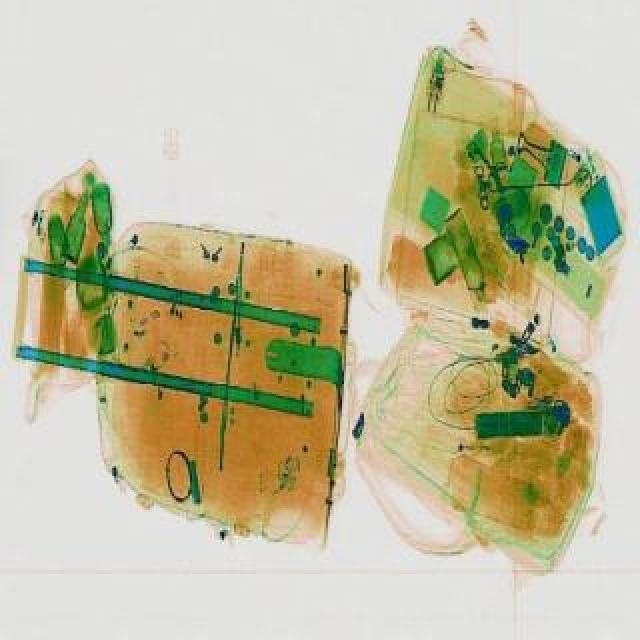pliers: (462, 142, 514, 200)
